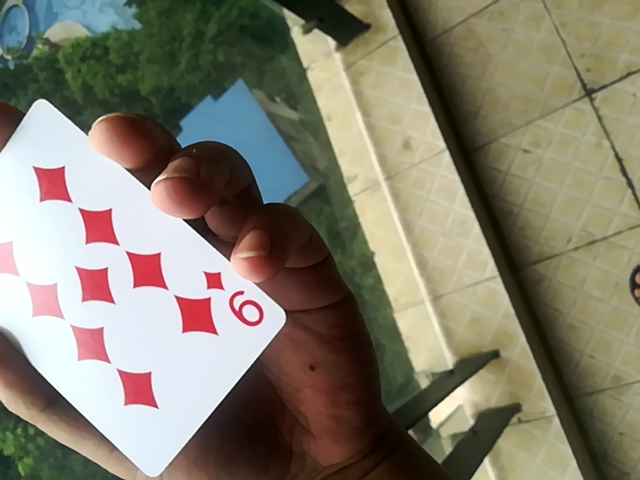fk 9: (0, 86, 299, 479)
